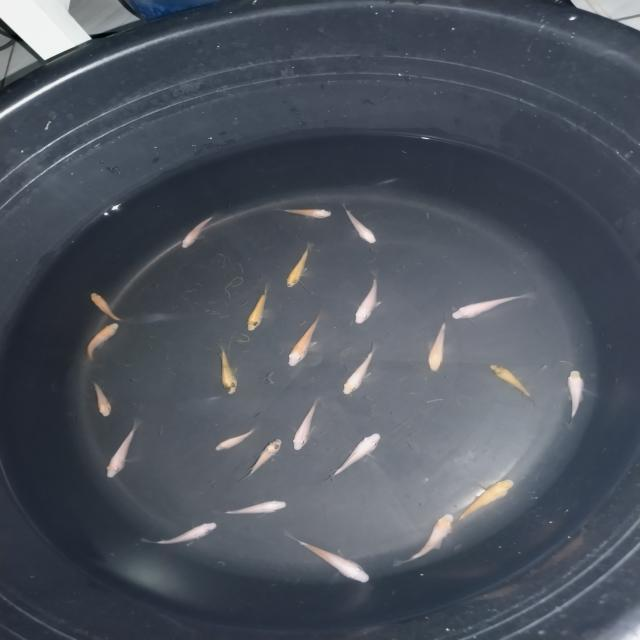nila: (287, 532, 374, 585), (451, 475, 520, 528), (392, 512, 454, 566), (322, 430, 386, 479), (100, 418, 146, 481), (282, 312, 324, 370), (451, 293, 534, 322), (338, 342, 378, 396), (340, 201, 386, 246), (488, 361, 537, 403), (144, 520, 217, 548), (238, 438, 284, 480), (80, 320, 122, 366), (291, 396, 324, 452), (176, 212, 222, 250), (351, 270, 382, 326), (281, 246, 321, 288), (218, 498, 290, 520), (564, 364, 588, 429), (242, 284, 273, 332), (84, 290, 127, 324), (424, 316, 448, 376), (210, 424, 256, 455), (214, 346, 240, 396), (86, 380, 114, 418), (277, 204, 333, 222)
